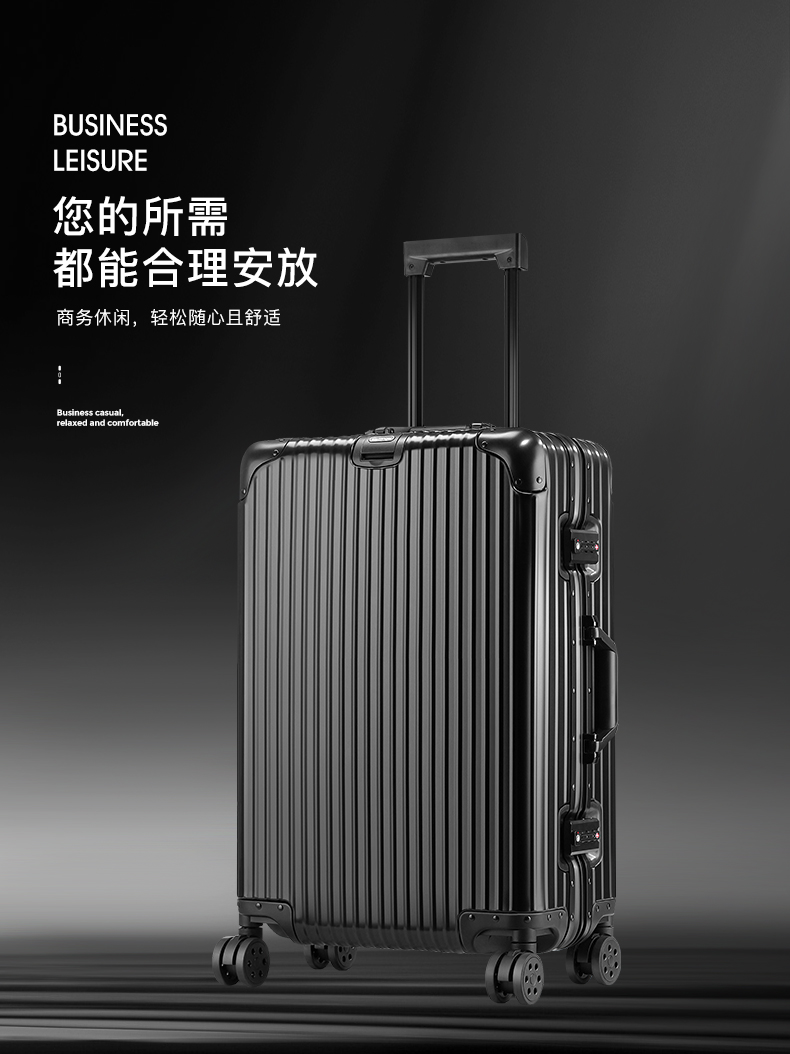box: (237, 436, 616, 949)
handle: (581, 614, 619, 764)
lock: (563, 818, 601, 856), (561, 528, 601, 564)
wheel: (484, 949, 545, 1007), (211, 934, 271, 987), (565, 933, 622, 987), (302, 942, 358, 971)
